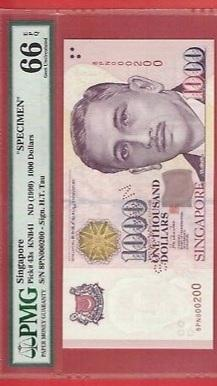1000SingaporeDollar: (65, 40, 213, 347)
